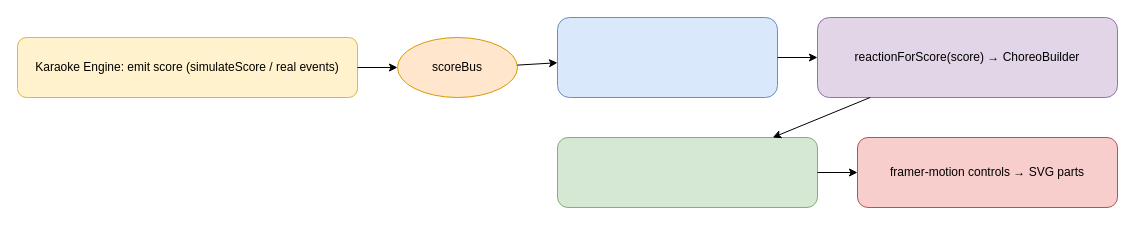
Image size: 1135x225. Some labels were removed from this diagram. Here are the shapes that lost their labels. From the top down, the box of each, then its label:
(556, 16, 778, 98): attachScoreReactions()
(556, 136, 818, 208): runRounds(actors, programs, {score})
